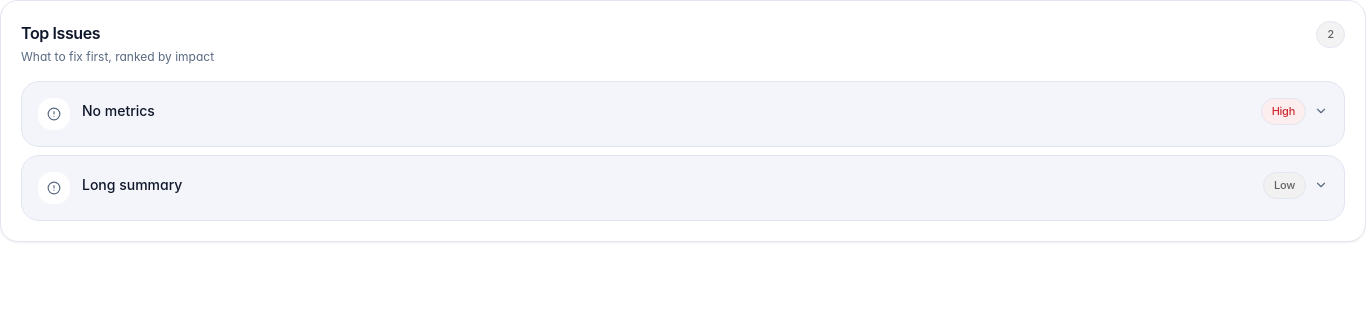
Test: IssuesList › hides details until an issue is expanded
The width and height of the screenshot is (1366, 319).
Expected: the text "Bullets lack numbers." is not shown
What coordinates should you click on to do the following:
click the button "No metrics High"
I would click on:
 (54, 114)
Its box is [21, 81, 1345, 147].
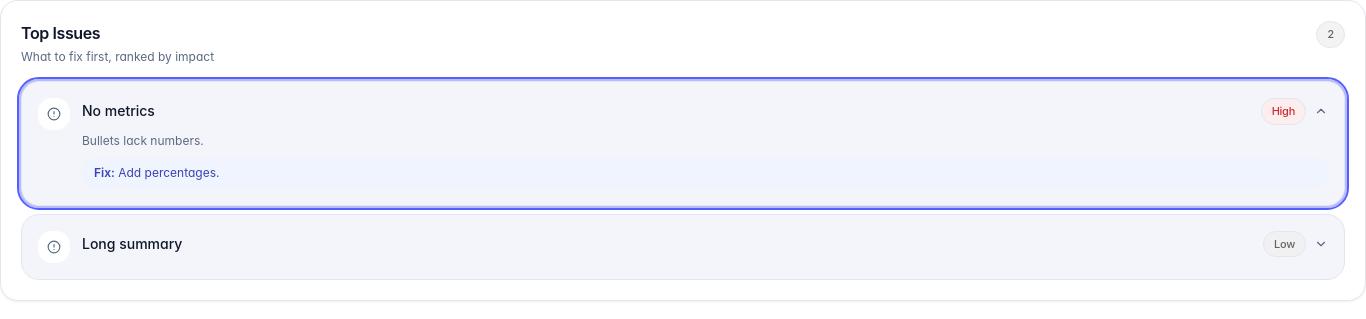
Expected: the text "Bullets lack numbers." is shown, [82, 132, 204, 148]
Expected: the text "Add percentages." is shown, [118, 164, 220, 180]
